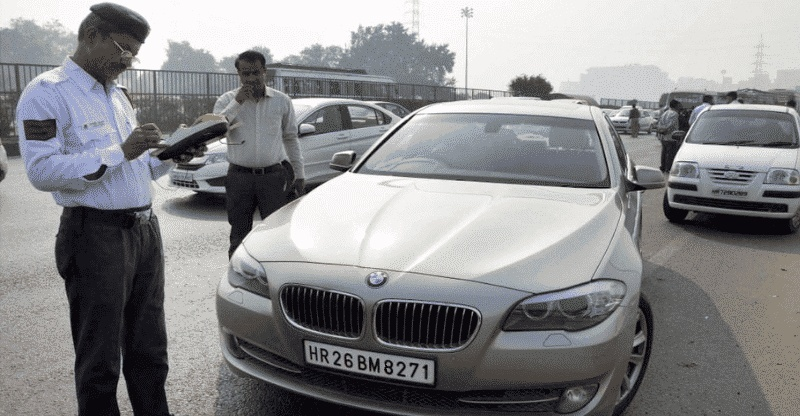number_plate: (299, 337, 442, 386)
